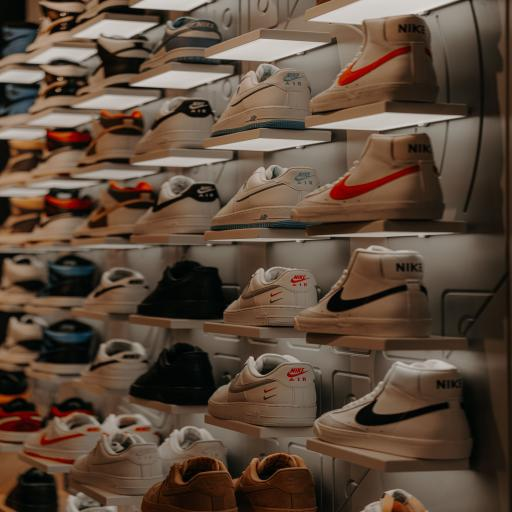shoe: (314, 360, 472, 459), (291, 134, 444, 223), (294, 246, 431, 337), (310, 15, 438, 112), (208, 354, 316, 426), (212, 64, 310, 136), (212, 166, 319, 230), (70, 433, 163, 495), (224, 267, 317, 326), (130, 343, 215, 405), (141, 457, 237, 511), (133, 175, 220, 234), (138, 261, 224, 318), (234, 453, 316, 511), (135, 97, 213, 154), (74, 182, 154, 237), (140, 17, 221, 71), (78, 36, 150, 95), (24, 413, 103, 463), (78, 110, 143, 165), (31, 319, 93, 374), (28, 189, 92, 242), (30, 255, 95, 307), (80, 339, 147, 389), (159, 426, 227, 474), (29, 60, 87, 113), (28, 129, 90, 178), (83, 267, 148, 313), (26, 0, 84, 51), (0, 315, 47, 371), (0, 254, 47, 305), (6, 468, 57, 511), (115, 395, 171, 432), (0, 140, 44, 187), (0, 197, 44, 244), (0, 399, 42, 442), (103, 414, 160, 444), (77, 0, 144, 23), (362, 489, 426, 511), (45, 397, 95, 425), (0, 22, 37, 58), (0, 83, 39, 115), (0, 370, 29, 403), (66, 493, 117, 511), (316, 0, 330, 5)
